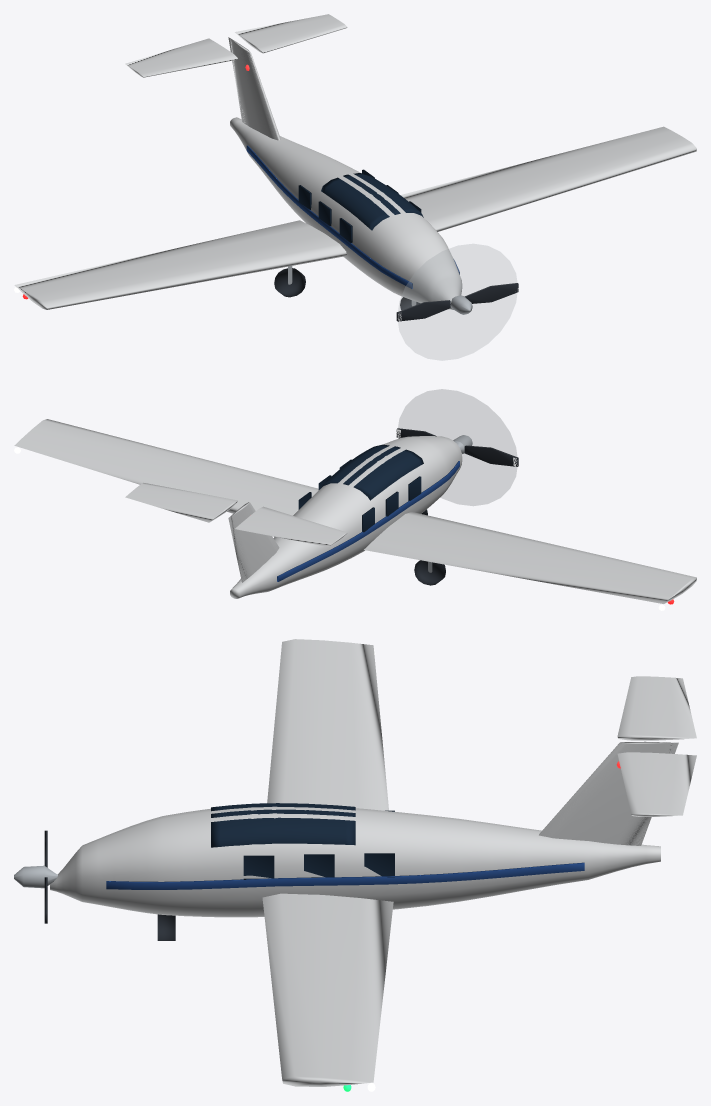
3 renders of one model, top to bottom at view 1: azimuth 30°, elevation 25°; view 2: azimuth 150°, elevation 25°; view 3: azimuth 270°, elevation 25°, orthographic. The views are drawn at different scales.
Parts seen in each view (by area): view 1: body, disc0, prop0, gearL_fixed; view 2: body, disc0, prop0, gearL_fixed; view 3: body, prop0.
Boxes of the visible parts, x1,y1,x2,y2 form: body: [14, 14, 696, 309]; disc0: [398, 244, 517, 360]; prop0: [396, 283, 518, 321]; gearL_fixed: [274, 266, 305, 297]; body: [14, 419, 696, 603]; disc0: [398, 389, 517, 505]; prop0: [396, 428, 518, 466]; gearL_fixed: [414, 560, 445, 585]; body: [50, 639, 696, 1086]; prop0: [14, 830, 57, 923].
Bounding box in the file's own units: 10.87 × 2.46 × 7.16.
